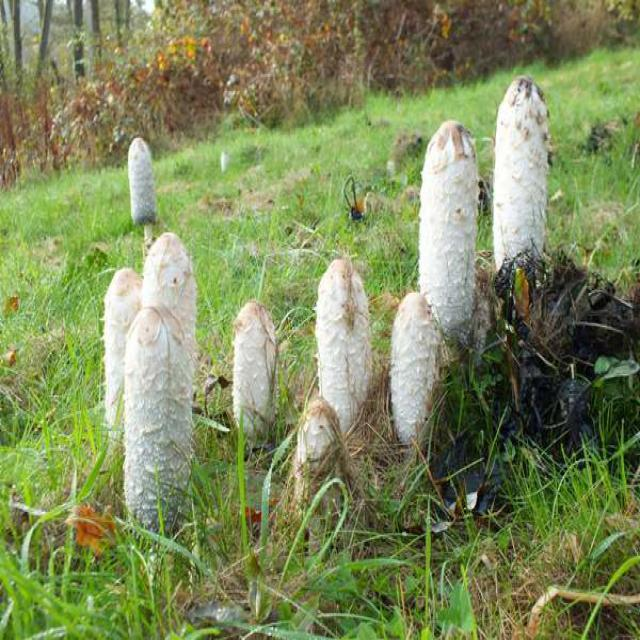Coprinus comatus: (143, 231, 198, 515), (126, 308, 188, 538), (494, 77, 549, 311), (419, 125, 478, 334), (318, 261, 369, 462), (390, 292, 438, 442), (294, 400, 340, 541), (101, 271, 140, 417), (233, 300, 273, 434), (127, 131, 155, 226)
